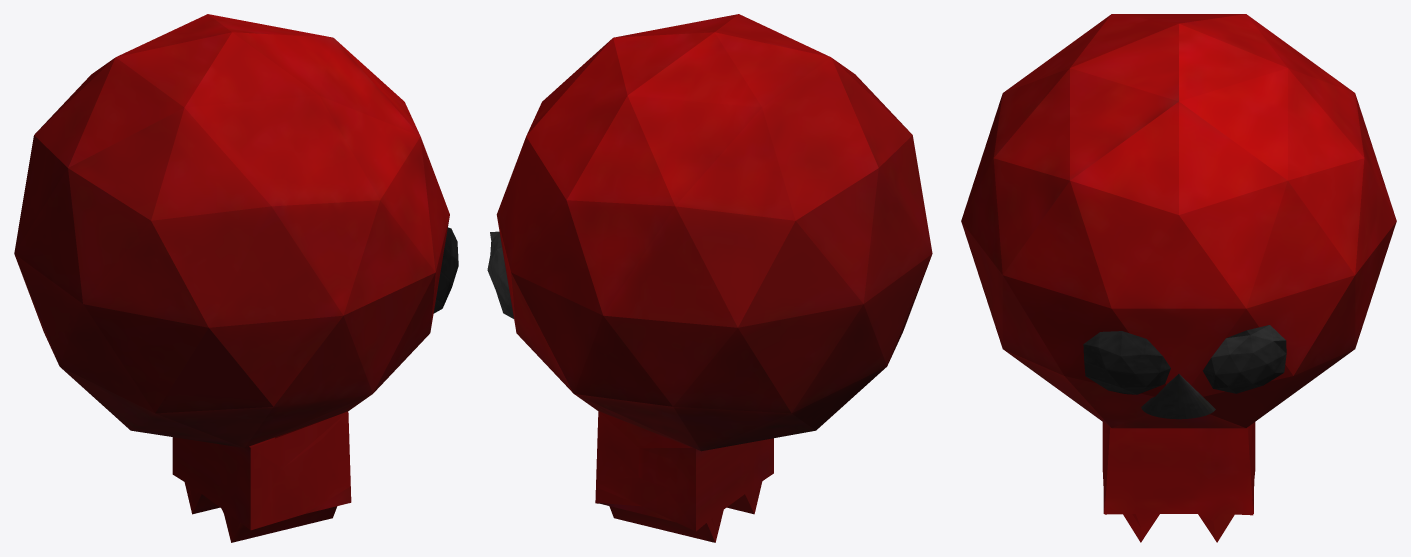
The model's file is redmask4.dae.
The picture shows the model from 3 angles, left to right: view 1: azimuth 30°, elevation 25°; view 2: azimuth 150°, elevation 25°; view 3: azimuth 270°, elevation 25°; orthographic projection. The views are drawn at different scales.
Parts seen in each view (by area): view 1: Cube; view 2: Cube; view 3: Cube.
Boxes of the visible parts, left/top/right/bottom form: Cube: left=14, top=14, right=458, bottom=542; Cube: left=487, top=14, right=932, bottom=542; Cube: left=961, top=14, right=1396, bottom=542.
Bounding box in the file's own units: 0.2103 × 0.2155 × 0.2622.
1 material, 1 textured.
